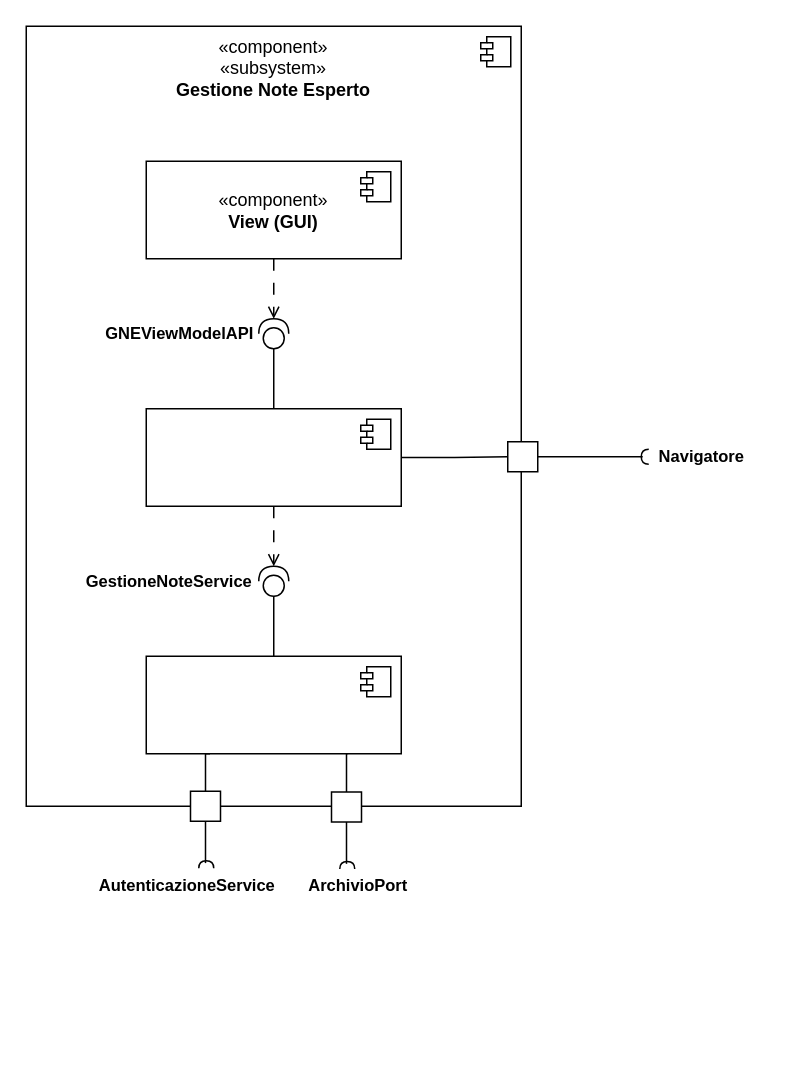
This 788x1071 diagram has some shape labels left out. Each missing label, with the centre of its shape:
«component» Service: (x=273, y=704)
«component» ViewModel (controller): (x=273, y=456)
